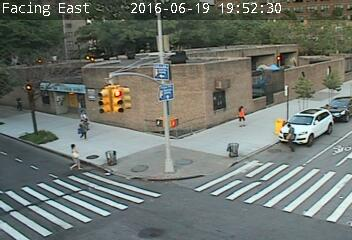neg: (84, 44, 97, 62), (324, 72, 336, 88), (264, 82, 275, 97), (65, 30, 75, 44), (173, 49, 181, 58), (336, 32, 342, 40)
pos: (279, 121, 302, 151), (62, 142, 84, 171), (233, 102, 250, 126), (73, 119, 89, 140), (11, 95, 24, 113), (77, 107, 86, 120)
